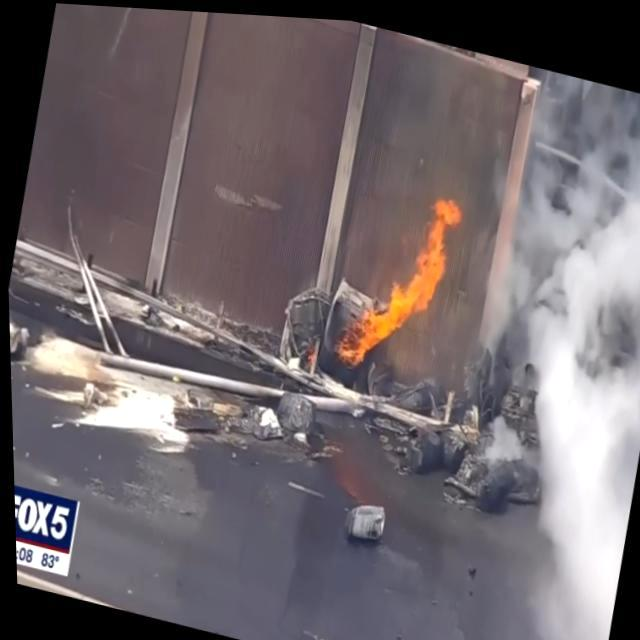fire: (328, 167, 466, 386)
